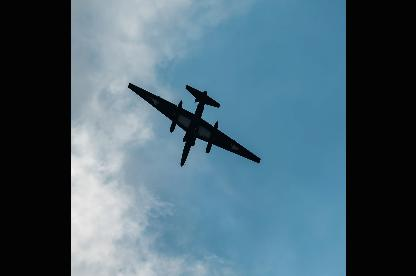Tu160: (127, 83, 260, 167)
